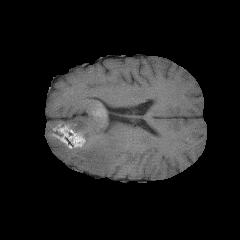glioma: (49, 94, 132, 173)
